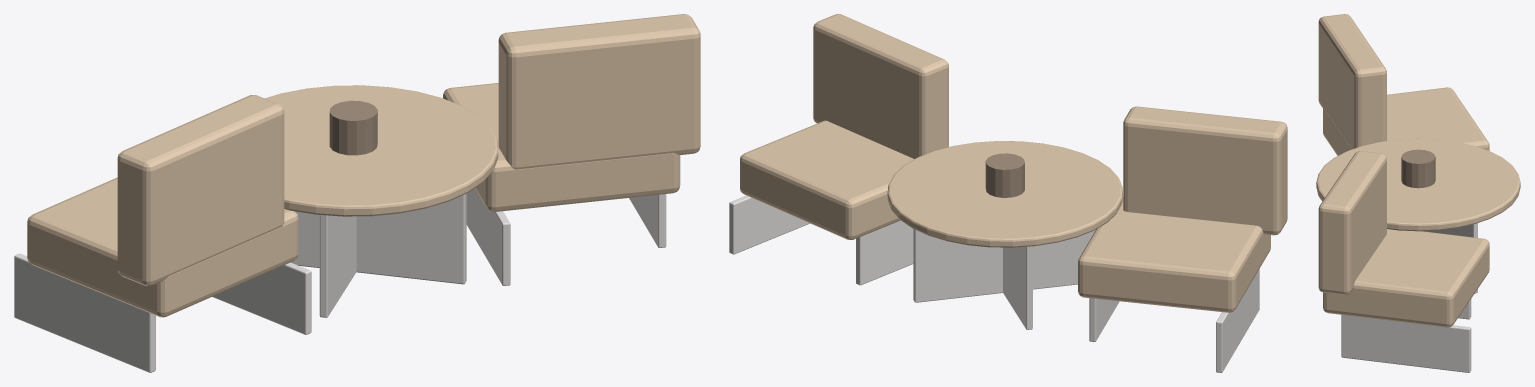
Rendered from modern_office_kitchenette_asset_board_46.glb.
3 renders of one model, left to right at view 1: azimuth 30°, elevation 25°; view 2: azimuth 150°, elevation 25°; view 3: azimuth 270°, elevation 25°, orthographic. The views are drawn at different scales.
Visible parts, largest first — view 1: Cylinder; view 2: Cylinder; view 3: Cylinder.
Boxes of the visible parts, bbox=[...] form: Cylinder: bbox=[14, 14, 700, 372]; Cylinder: bbox=[729, 14, 1287, 372]; Cylinder: bbox=[1316, 14, 1520, 372].
Size of the model in its own units: 2.03 by 0.72 by 0.84.
